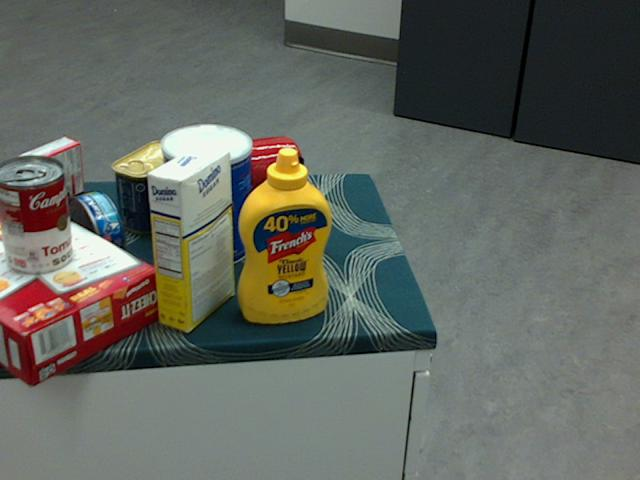cracker_box: (0, 199, 161, 386)
gelatin_box: (13, 137, 83, 215)
large_marker: (289, 154, 304, 247)
master_chef_can: (158, 123, 250, 269)
mug: (219, 135, 302, 207)
mustard_bottle: (237, 145, 332, 322)
potted_meat_can: (110, 138, 186, 234)
sugar_box: (145, 144, 235, 331)
tomato_soup_can: (0, 155, 72, 274)
tuna_fish_can: (61, 191, 123, 269)
